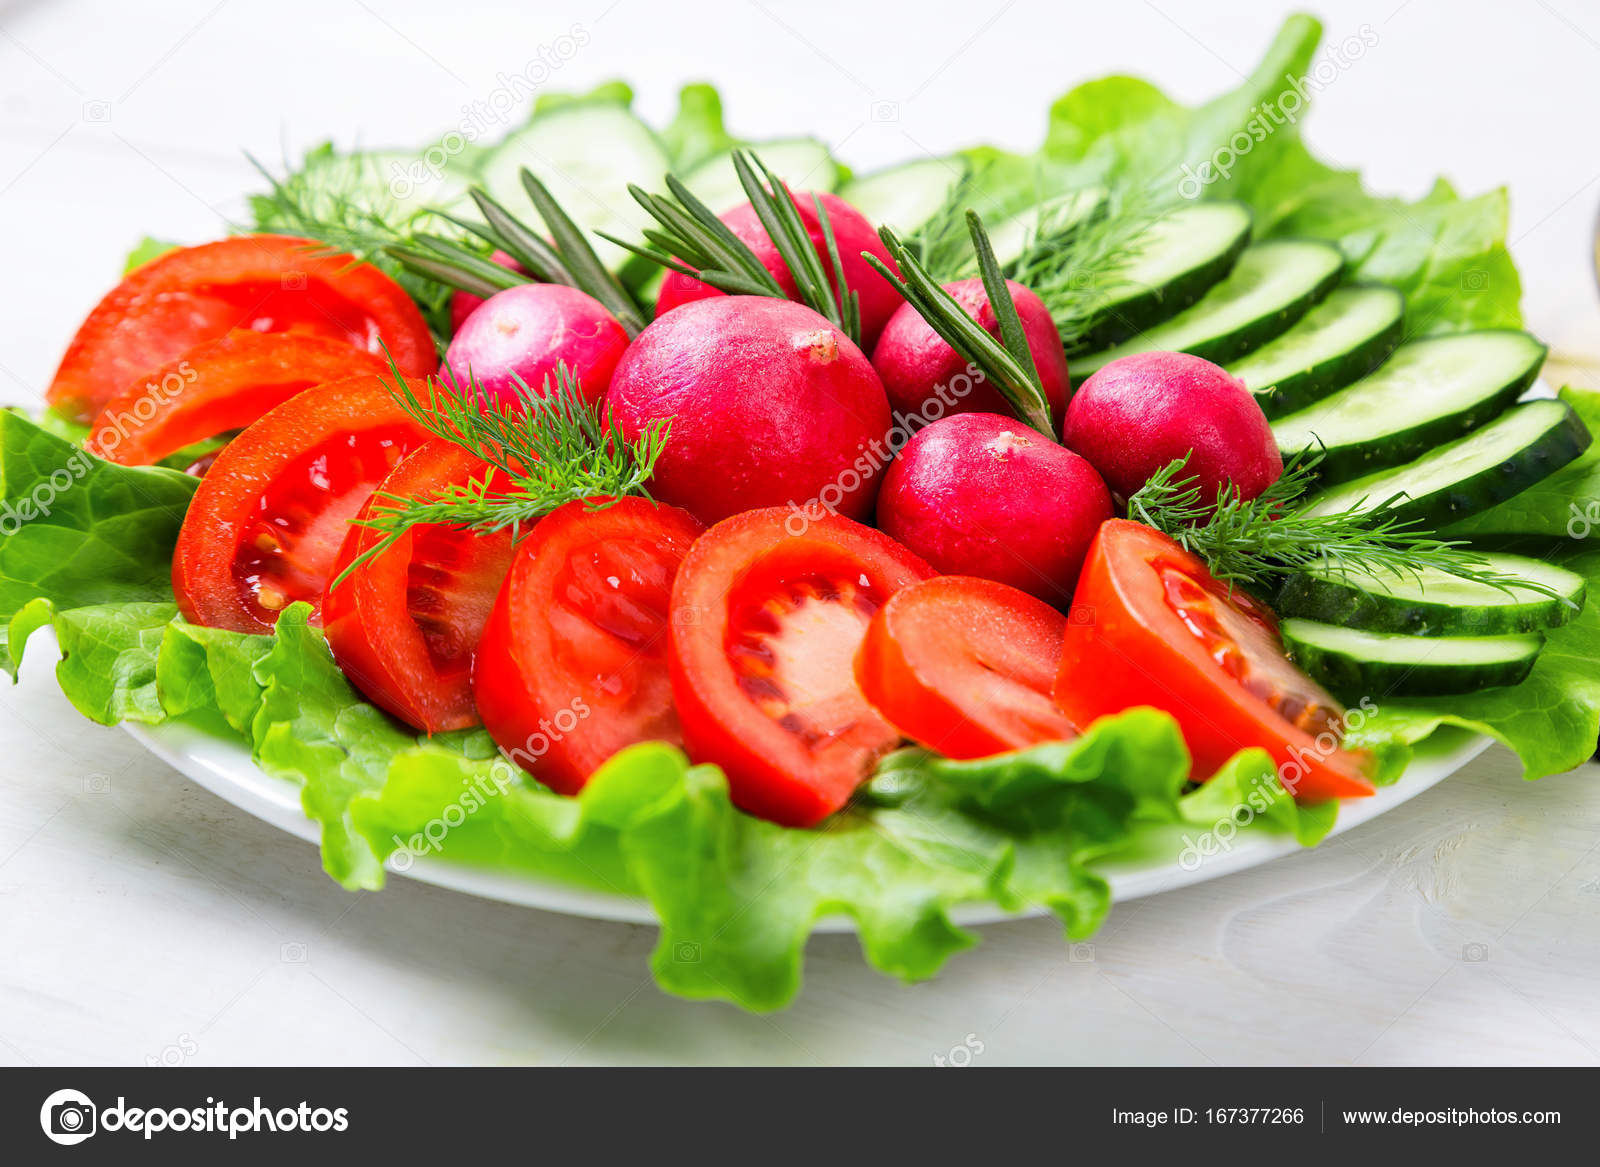chopped lettuce: (65, 659, 1036, 976), (1056, 91, 1544, 491)
